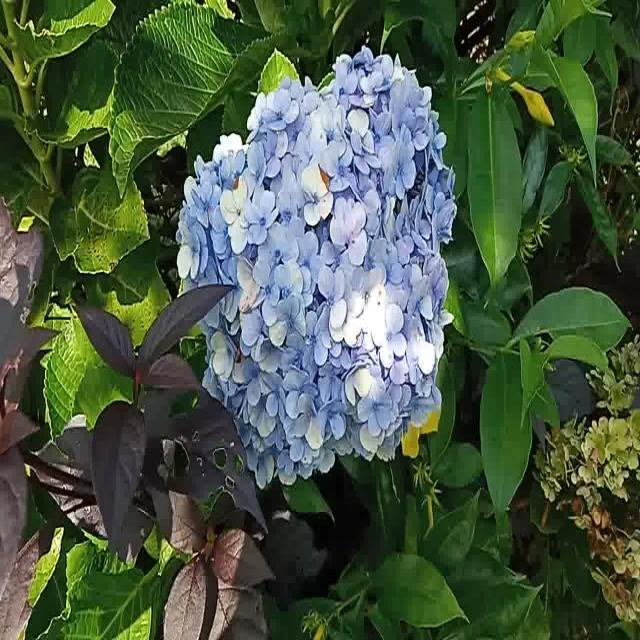Flower: (178, 49, 460, 494)
